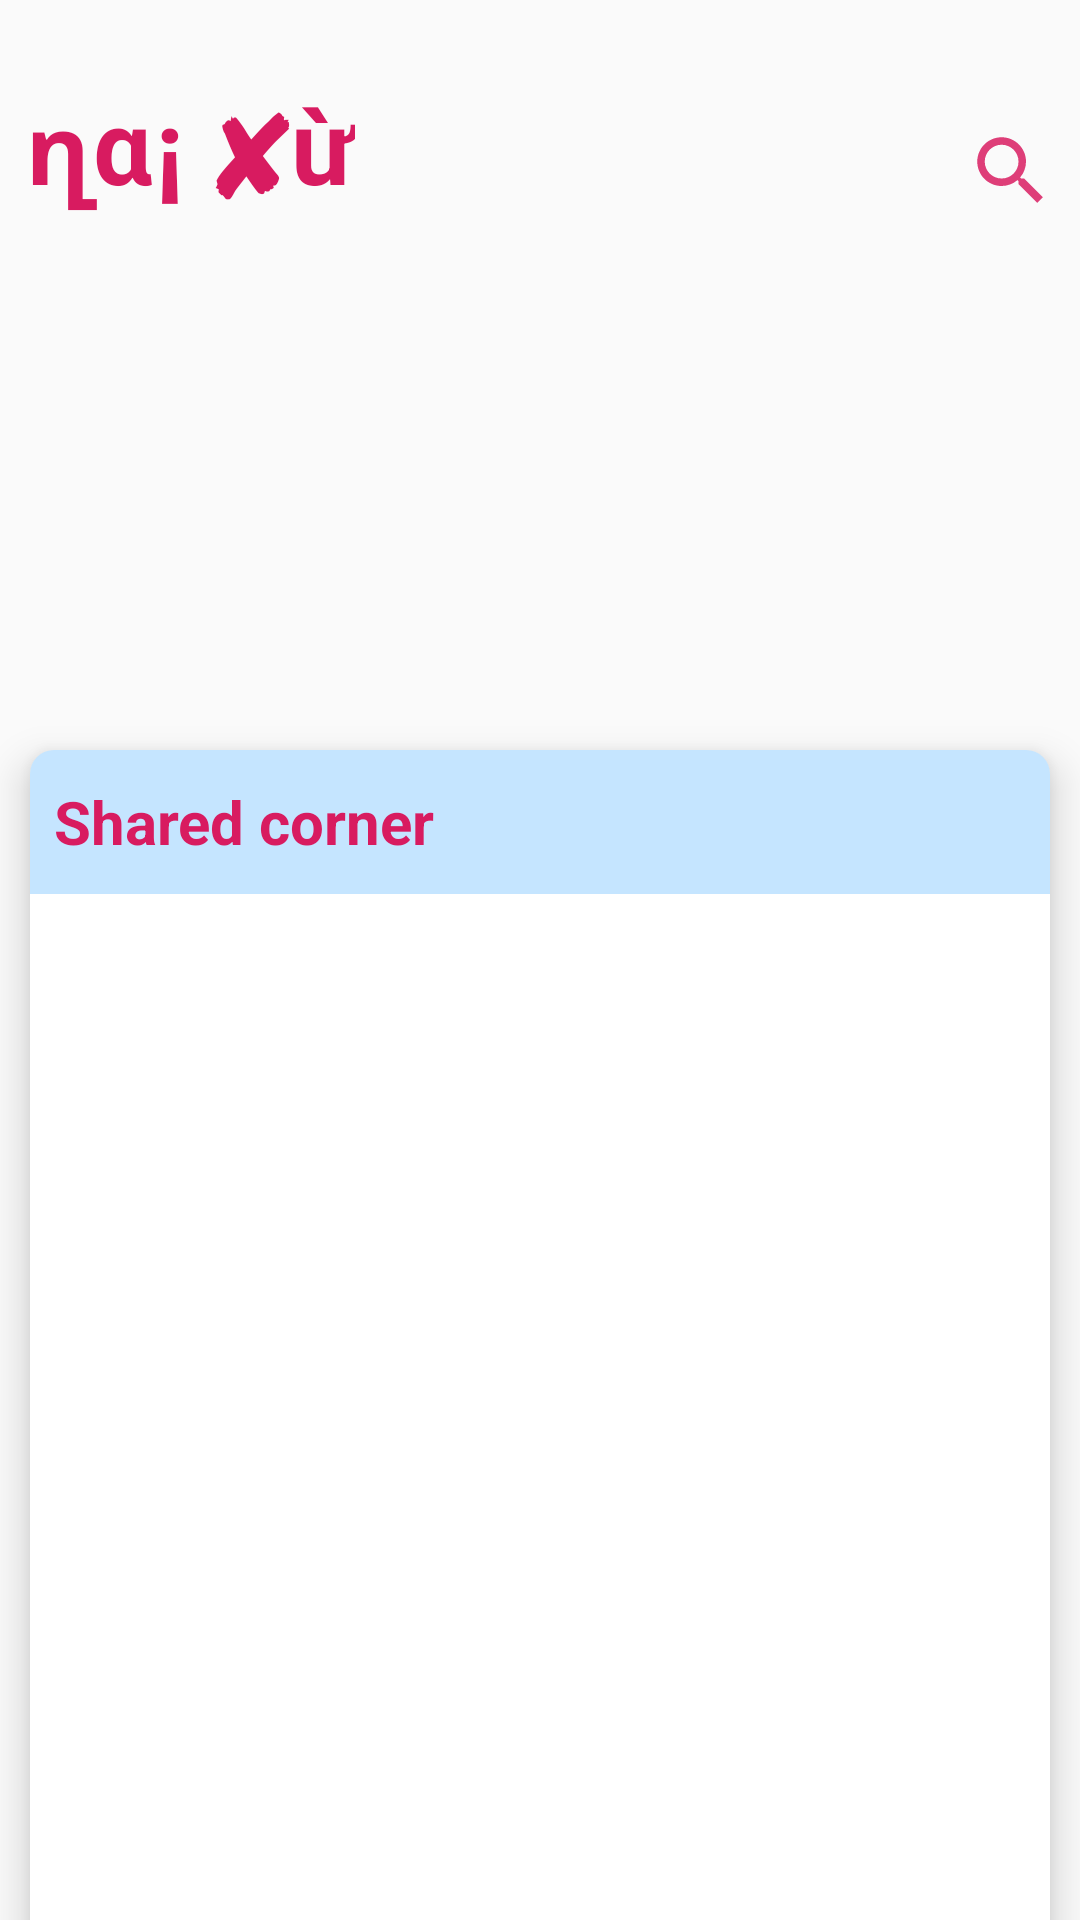

Named icons in this screenshot (1080x1920) and their bounding boxes, (x1, y1, x2, y2):
find: (977, 137, 1043, 203)
